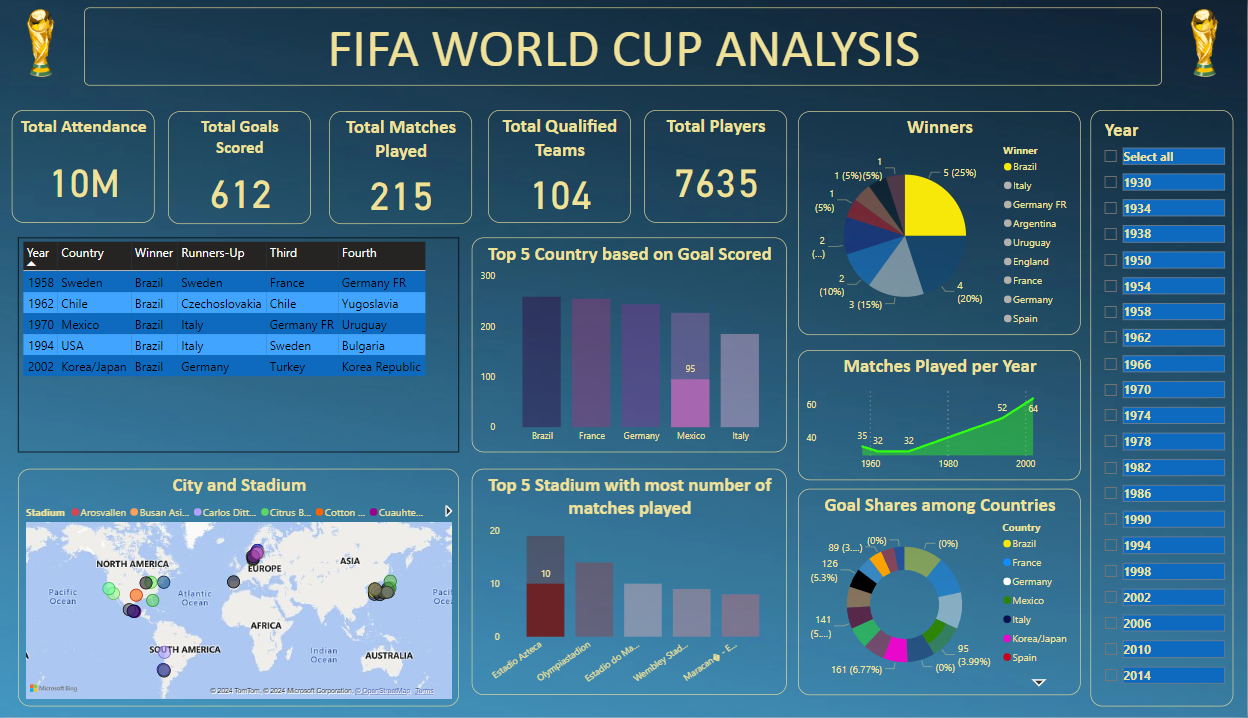

Layout of this report page (visuals, bound fields, positions):
{"tool":"powerbi","page":{"name":"Page 1","canvas":[1666,956],"ordinal":0},"visuals":[{"type":"image","box":[0,0,114.3,114.3],"z":0},{"type":"image","box":[1551.4,0,114.3,114.3],"z":1000},{"type":"textbox","box":[114.3,10,1437.1,104.3],"z":2000},{"type":"card","title":"Total Attendance","fields":{"Values":["Sum(WorldCups.Attendance)"]},"box":[18.6,147.1,190,150],"z":3000},{"type":"card","title":"Total Goals Scored","fields":{"Values":["Sum(WorldCups.GoalsScored)"]},"box":[227.1,148.6,190,150],"z":4000},{"type":"card","title":"Total Matches Played","fields":{"Values":["Sum(WorldCups.MatchesPlayed)"]},"box":[441.7,148.3,190,150],"z":5000},{"type":"card","title":"Total Qualified Teams","fields":{"Values":["Sum(WorldCups.QualifiedTeams)"]},"box":[652.9,147.1,190,150],"z":6000},{"type":"card","title":"Total Players","fields":{"Values":["Count(WorldCupPlayers.Player Name)"]},"box":[861.4,147.1,190,150],"z":7000},{"type":"slicer","fields":{"Values":["WorldCups.Year"]},"box":[1456.7,146.7,190,795],"z":8000},{"type":"tableEx","fields":{"Values":["WorldCups.Year","WorldCups.Country","WorldCups.Winner","WorldCups.Runners-Up","WorldCups.Third","WorldCups.Fourth"]},"box":[26.7,316.7,588.3,286.7],"z":9000},{"type":"pieChart","title":"Winners","fields":{"Category":["WorldCups.Winner"],"Y":["CountNonNull(WorldCups.Winner)"]},"box":[1066.7,148.3,376.7,298.3],"z":10000},{"type":"map","fields":{"Category":["WorldCupMatches.City"],"Series":["WorldCupMatches.Stadium"]},"box":[26.7,625,588.3,316.7],"z":11000},{"type":"columnChart","title":" Top 5 Country based on Goal Scored","fields":{"Category":["WorldCups.Country"],"Y":["Sum(WorldCups.GoalsScored)"]},"box":[631.7,316.7,420,286.7],"z":12000},{"type":"columnChart","title":"Top 5 Stadium with  most number of matches played","fields":{"Category":["WorldCupMatches.Stadium"],"Y":["CountNonNull(WorldCupMatches.MatchID)"]},"box":[631.7,625,420,301.7],"z":13000},{"type":"areaChart","title":"Matches Played per Year","fields":{"Category":["WorldCupMatches.Year"],"Y":["CountNonNull(WorldCupMatches.MatchID)"]},"box":[1066.7,466.7,376.7,173.3],"z":14000},{"type":"donutChart","title":"Goal Shares among Countries","fields":{"Y":["Sum(WorldCups.GoalsScored)"],"Category":["WorldCups.Country"]},"box":[1066.7,651.7,376.7,275],"z":15000}]}

Visuals, with their boxes in screenshot pixels (x1, y1, x2, y2), scaled from the page's 1666x956 canvas onto the 1248x718 screenshot:
image: 0, 0, 86, 86
image: 1162, 0, 1247, 86
textbox: 86, 8, 1162, 86
"Total Attendance" card: 14, 110, 156, 223
"Total Goals Scored" card: 170, 112, 312, 224
"Total Matches Played" card: 331, 111, 473, 224
"Total Qualified Teams" card: 489, 110, 631, 223
"Total Players" card: 645, 110, 788, 223
slicer - WorldCups.Year: 1091, 110, 1234, 707
tableEx - WorldCups.Year x WorldCups.Country: 20, 238, 461, 453
"Winners" pieChart: 799, 111, 1081, 335
map - WorldCupMatches.City x WorldCupMatches.Stadium: 20, 469, 461, 707
" Top 5 Country based on Goal Scored" columnChart: 473, 238, 788, 453
"Top 5 Stadium with  most number of matches played" columnChart: 473, 469, 788, 696
"Matches Played per Year" areaChart: 799, 351, 1081, 481
"Goal Shares among Countries" donutChart: 799, 489, 1081, 696
